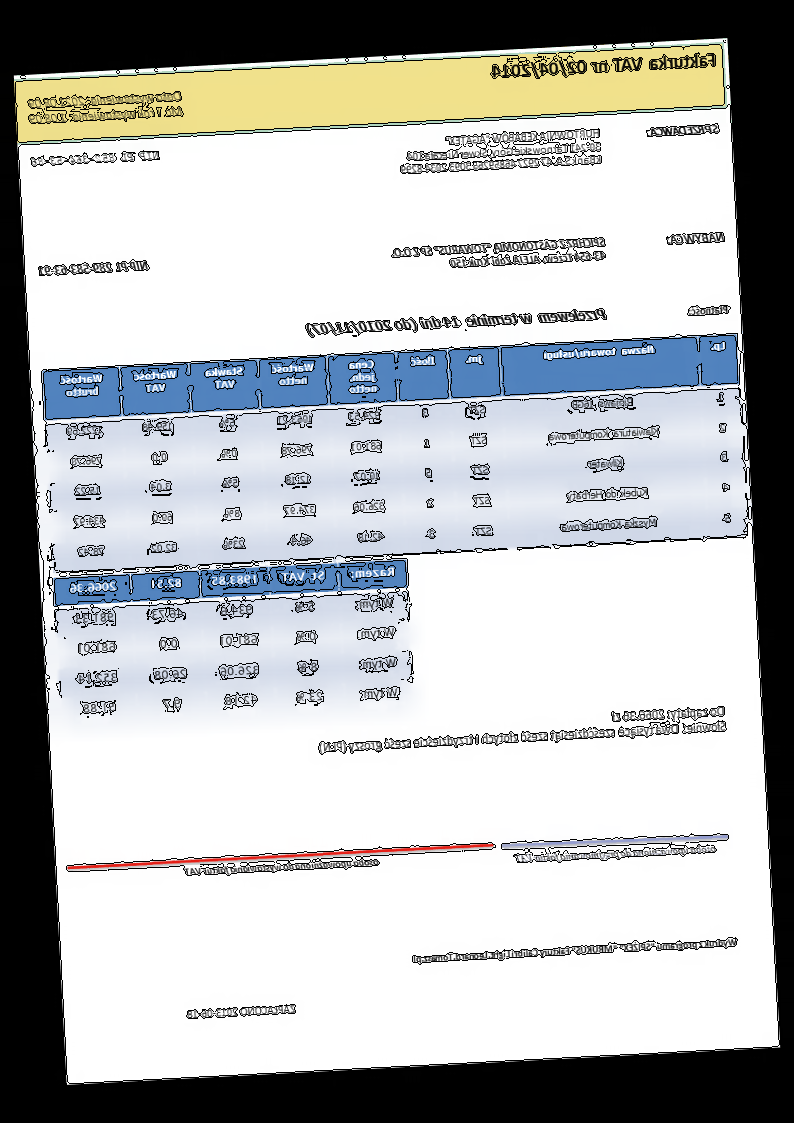Table: (42, 332, 749, 574), (53, 557, 416, 729)
TextBox: (317, 703, 729, 757), (304, 306, 610, 340), (410, 935, 739, 966), (397, 126, 604, 175), (390, 234, 608, 273), (489, 50, 718, 82), (25, 88, 185, 127), (512, 842, 719, 866), (183, 855, 380, 880), (29, 147, 163, 169), (35, 259, 150, 278), (183, 1002, 298, 1020), (645, 121, 721, 138), (664, 228, 728, 247), (686, 302, 732, 317)
